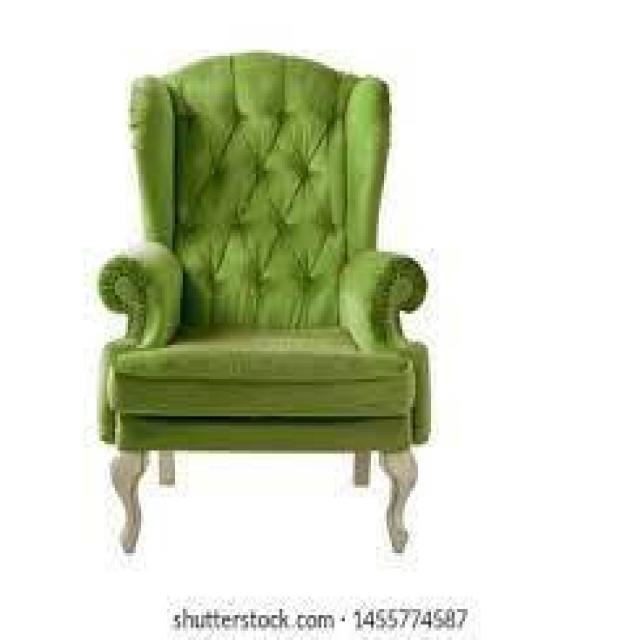chair: (68, 45, 465, 567)
